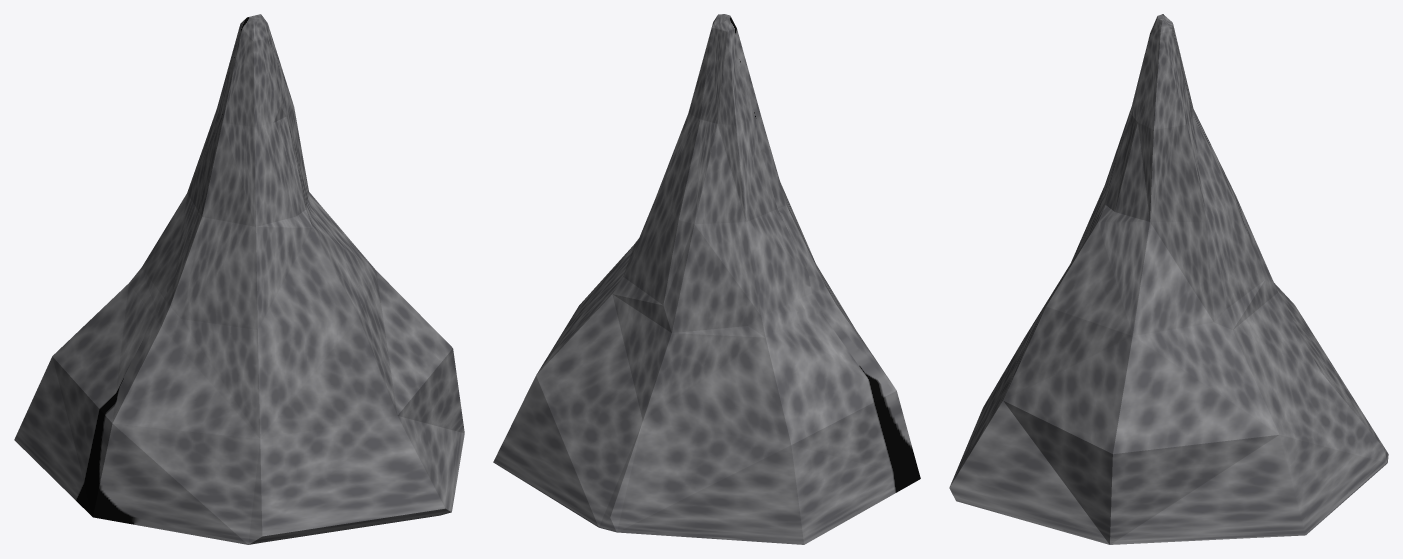
Rendered from 뾰족바위_01.fbx.
3 renders of one model, left to right at view 1: azimuth 30°, elevation 25°; view 2: azimuth 150°, elevation 25°; view 3: azimuth 270°, elevation 25°, orthographic. The views are drawn at different scales.
Visible parts, largest first — view 1: 뾰족바위_01; view 2: 뾰족바위_01; view 3: 뾰족바위_01.
Part boxes in pixels (left/top/right/bottom): 뾰족바위_01: left=14, top=14, right=464, bottom=544; 뾰족바위_01: left=493, top=14, right=920, bottom=544; 뾰족바위_01: left=949, top=14, right=1388, bottom=544.
Bounding box in the file's own units: 1277 × 1482 × 1344.
1 material, 1 textured.
